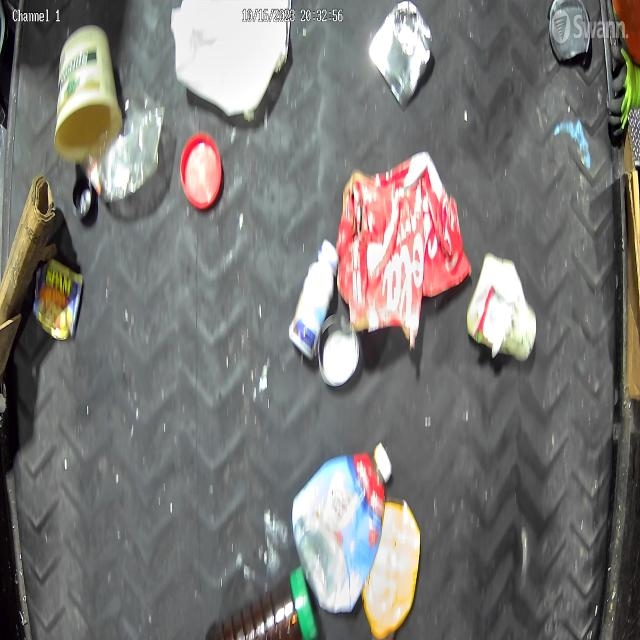can: (369, 0, 433, 110), (318, 314, 363, 388)
milk_jug: (171, 0, 289, 114)
non_white_jug: (361, 496, 422, 640)
